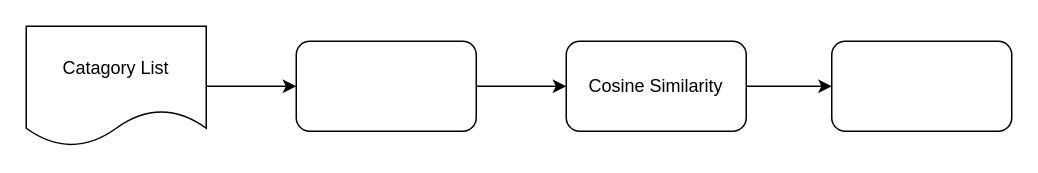
Some shapes in this 1038 by 173 pixel diagram are drawn without their labels. Here are the shapes that lost their labels. From the top down, the centre of each, then its label:
[385,85]: Embeddings
[921,85]: Most Suitable Catagory for Product
